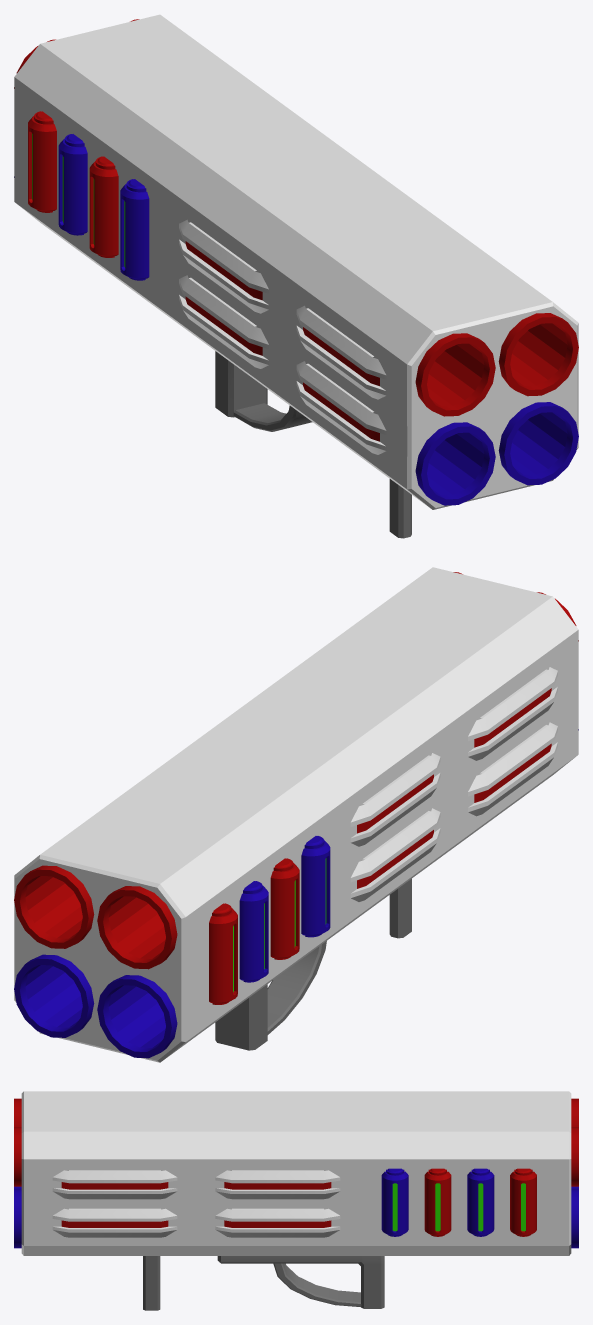
The model's file is MissileLauncher.fbx.
The picture shows the model from 3 angles, top to bottom: view 1: azimuth 30°, elevation 25°; view 2: azimuth 150°, elevation 25°; view 3: azimuth 270°, elevation 25°; orthographic projection. The views are drawn at different scales.
Parts seen in each view (by area): view 1: pCube11; view 2: pCube11; view 3: pCube11.
Part boxes in pixels (box(x1,y1,x2,y2)): pCube11: box(14, 14, 578, 538); pCube11: box(14, 567, 578, 1062); pCube11: box(14, 1091, 578, 1310).
Size of the model in its own units: 239 by 316 by 822.
